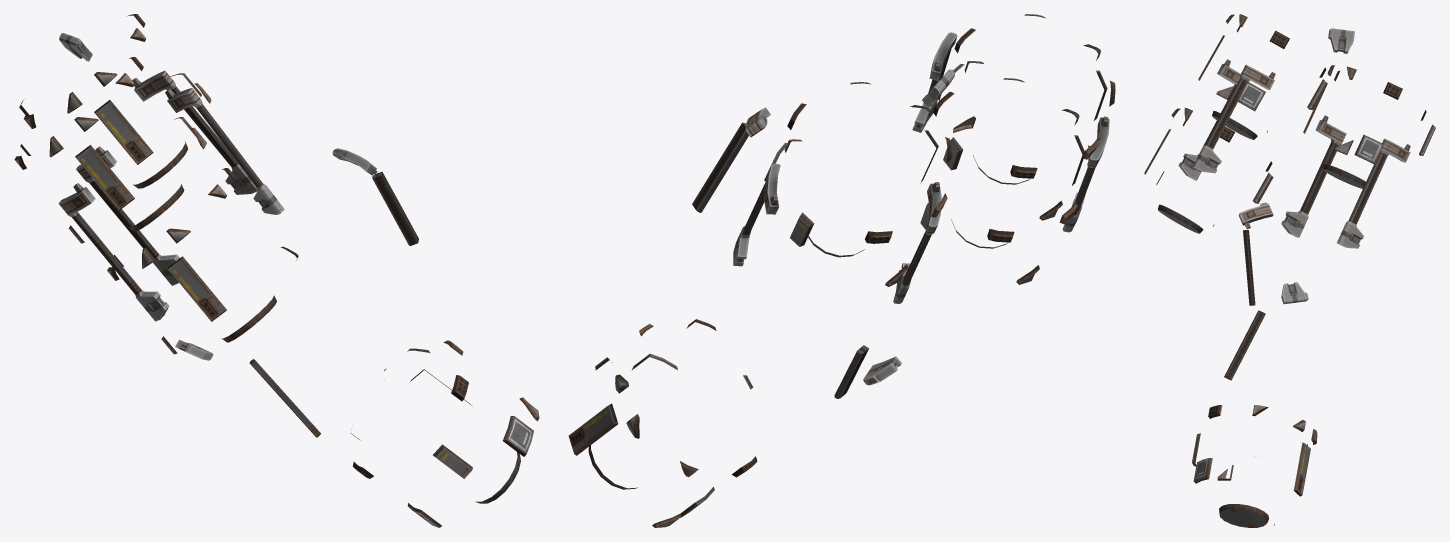
The model's file is prop_static_generic_container_01_04.glb.
The picture shows the model from 3 angles, left to right: view 1: azimuth 30°, elevation 25°; view 2: azimuth 150°, elevation 25°; view 3: azimuth 270°, elevation 25°; orthographic projection. The views are drawn at different scales.
Visible parts, largest first — view 1: generic_container_01_04_LOD0; view 2: generic_container_01_04_LOD0; view 3: generic_container_01_04_LOD0.
Part boxes in pixels (left/top/right/bottom): generic_container_01_04_LOD0: left=14, top=14, right=539, bottom=527; generic_container_01_04_LOD0: left=568, top=14, right=1115, bottom=527; generic_container_01_04_LOD0: left=1144, top=14, right=1435, bottom=527.
Size of what is drawn, in the model's own units: 5.4 by 5.61 by 3.75.
1 material, 1 textured.
